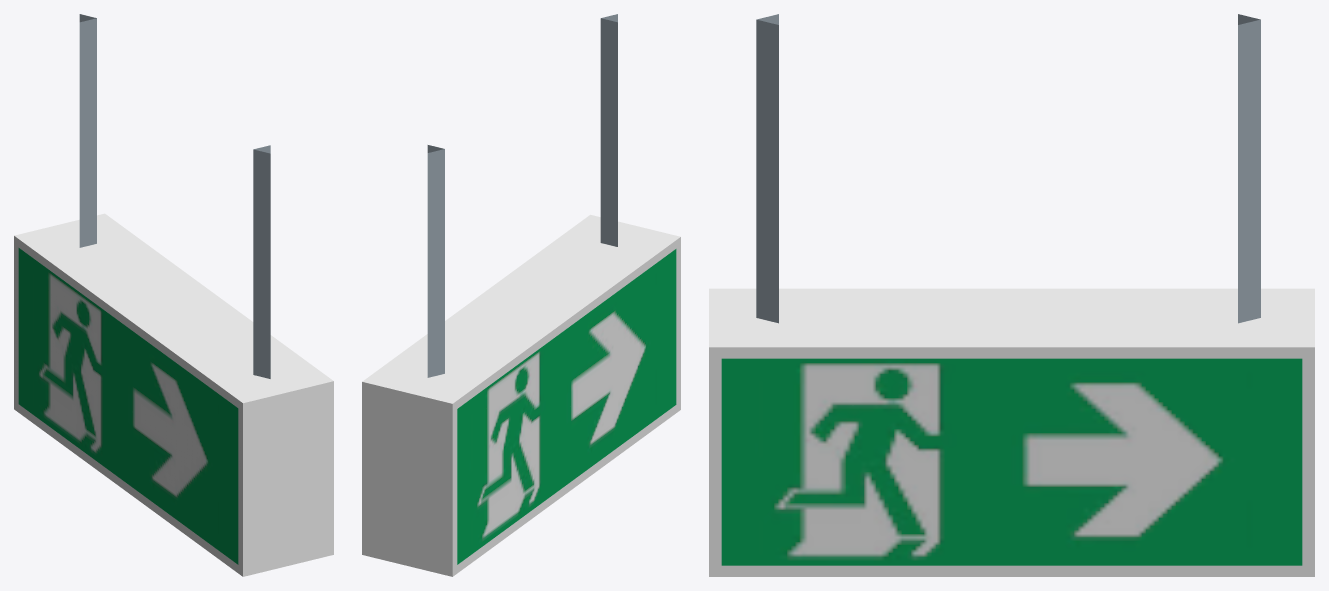
File: Exit sign.fbx
The picture shows the model from 3 angles, left to right: view 1: azimuth 30°, elevation 25°; view 2: azimuth 150°, elevation 25°; view 3: azimuth 270°, elevation 25°; orthographic projection. The views are drawn at different scales.
Parts seen in each view (by area): view 1: Exit sign; view 2: Exit sign; view 3: Exit sign.
Part boxes in pixels (x1,y1,x2,y2): Exit sign: [14, 14, 333, 576]; Exit sign: [362, 14, 680, 576]; Exit sign: [709, 14, 1314, 576].
Size of the model in its own units: 3.21 by 13.46 by 14.
